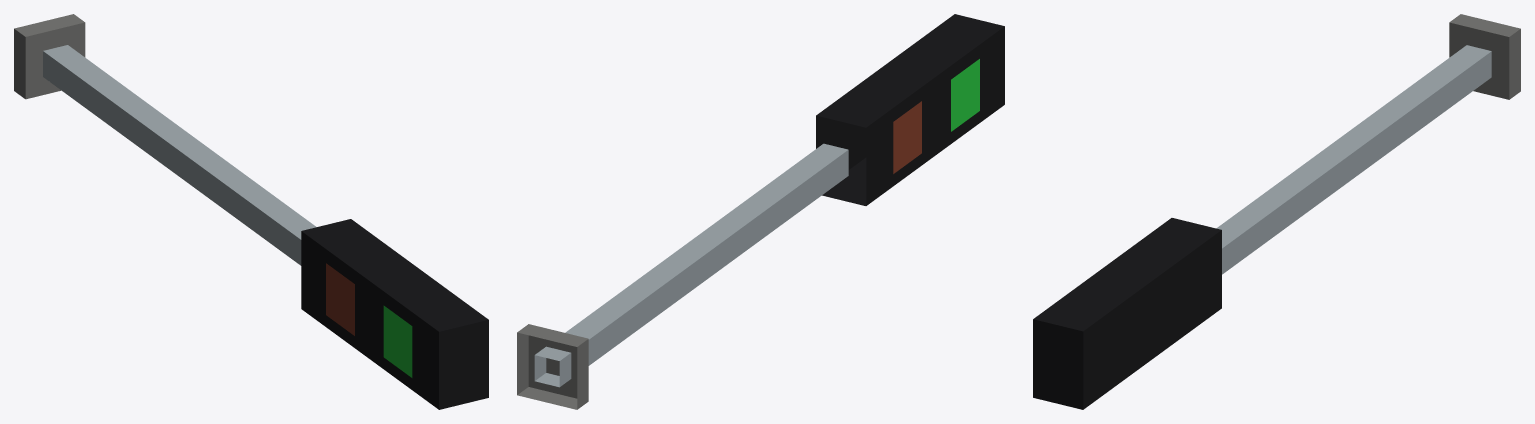
File: green.glb
3 views of the same model, side by side, from view 1: azimuth 30°, elevation 25°; view 2: azimuth 150°, elevation 25°; view 3: azimuth 330°, elevation 25° (orthographic).
Parts seen in each view (by area): view 1: signal_electric_block_green; view 2: signal_electric_block_green; view 3: signal_electric_block_green.
Part boxes in pixels (<box>): signal_electric_block_green: <box>14,14,488,409</box>; signal_electric_block_green: <box>517,14,1004,409</box>; signal_electric_block_green: <box>1033,14,1520,409</box>.
Size of the model in its own units: 1.22 by 1.5 by 14.8.
